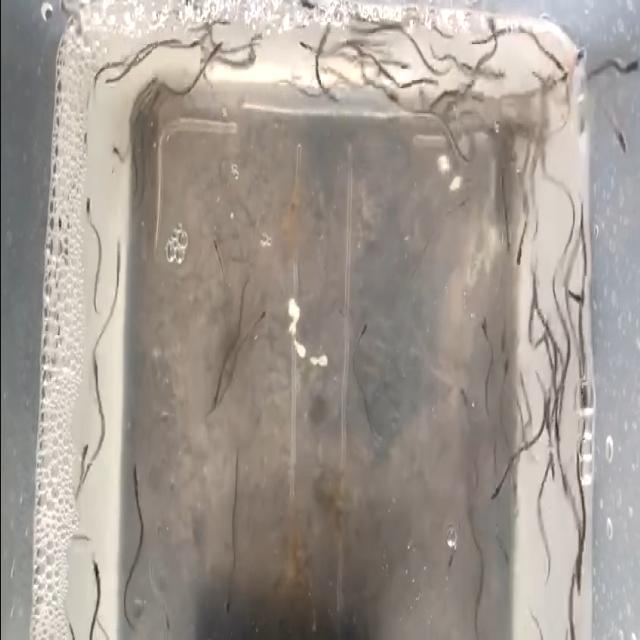inactive_glass_eel: (604, 120, 630, 158), (496, 337, 516, 379), (566, 281, 588, 315), (489, 469, 504, 516), (110, 139, 128, 177), (110, 239, 124, 287), (474, 323, 492, 354), (514, 238, 527, 277), (548, 56, 566, 84), (212, 378, 226, 414), (223, 580, 236, 618), (459, 378, 470, 422), (619, 55, 640, 78), (446, 542, 460, 576), (568, 52, 586, 78), (573, 549, 585, 587), (558, 472, 574, 500), (297, 37, 314, 63), (207, 37, 224, 63), (128, 468, 139, 506), (354, 322, 370, 348), (91, 560, 102, 596), (75, 442, 88, 472), (90, 362, 102, 394), (210, 236, 223, 265), (385, 88, 402, 110), (486, 15, 499, 43), (254, 306, 270, 328), (552, 419, 564, 446), (188, 34, 204, 54), (296, 1, 320, 14), (88, 198, 91, 234)
